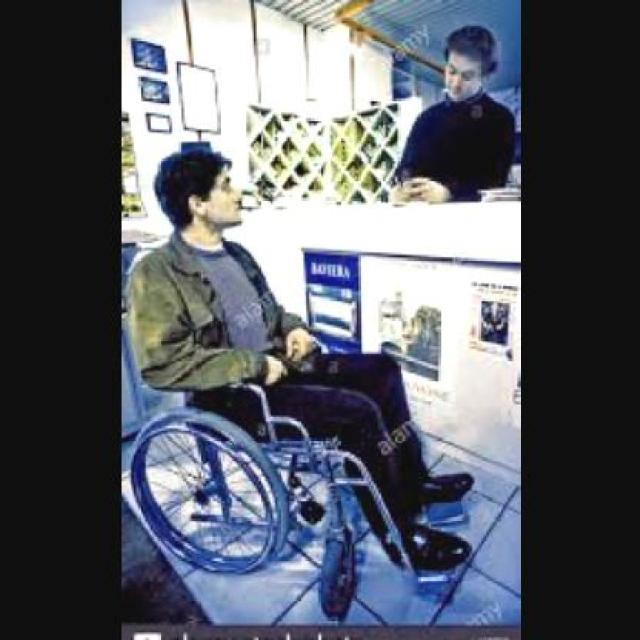wheelchairs: (129, 323, 476, 615)
